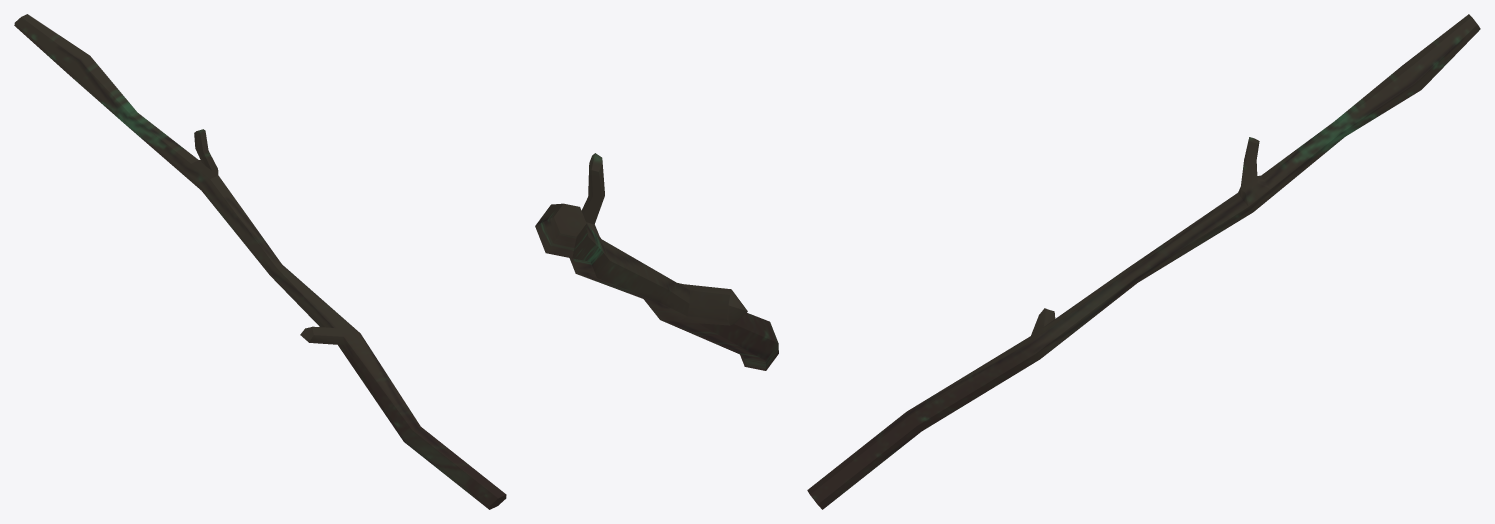
The model's file is polysurface141_lambert6_0_lev2.glb.
3 renders of one model, left to right at view 1: azimuth 30°, elevation 25°; view 2: azimuth 150°, elevation 25°; view 3: azimuth 270°, elevation 25°, orthographic. The views are drawn at different scales.
Parts seen in each view (by area): view 1: polysurface141_lambert6_0_lev2; view 2: polysurface141_lambert6_0_lev2; view 3: polysurface141_lambert6_0_lev2.
Part boxes in pixels (left/top/right/bottom): polysurface141_lambert6_0_lev2: left=14, top=14, right=506, bottom=509; polysurface141_lambert6_0_lev2: left=535, top=153, right=778, bottom=370; polysurface141_lambert6_0_lev2: left=807, top=14, right=1480, bottom=509.
Size of the model in its own units: 0.9616 by 1.47 by 2.33.
1 material, 1 textured.
